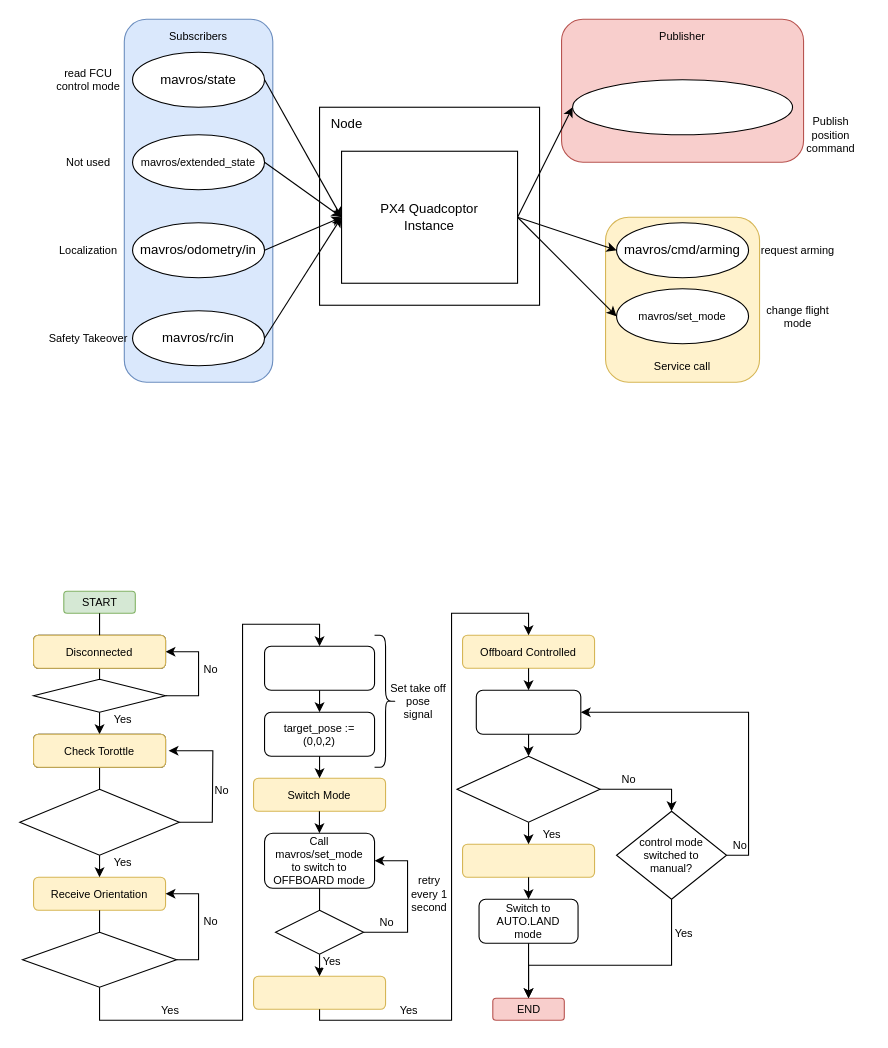
Image size: 888x1048. Some labels were removed from this diagram. Each missing label, with the centre of its shape:
Arming: the point at 319,992
Auto Land: the point at 528,860
Call offboard_main(): the point at 528,711
FCU connected?: the point at 99,695
in offboard mdoe?: the point at 319,931
Initial_pose := current pose message: the point at 319,667
mavros/setpoint_position/local: the point at 682,107
offboard_main returns true(finished)? .: the point at 528,788
Received >=100 pose messages?: the point at 99,959
Throttle in remote control higher than minimum threshold(~50%) ?: the point at 99,821
